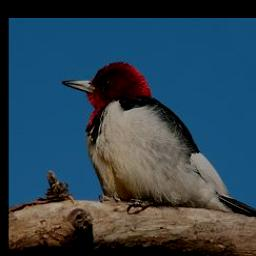Woodpecker: (61, 61, 256, 219)
